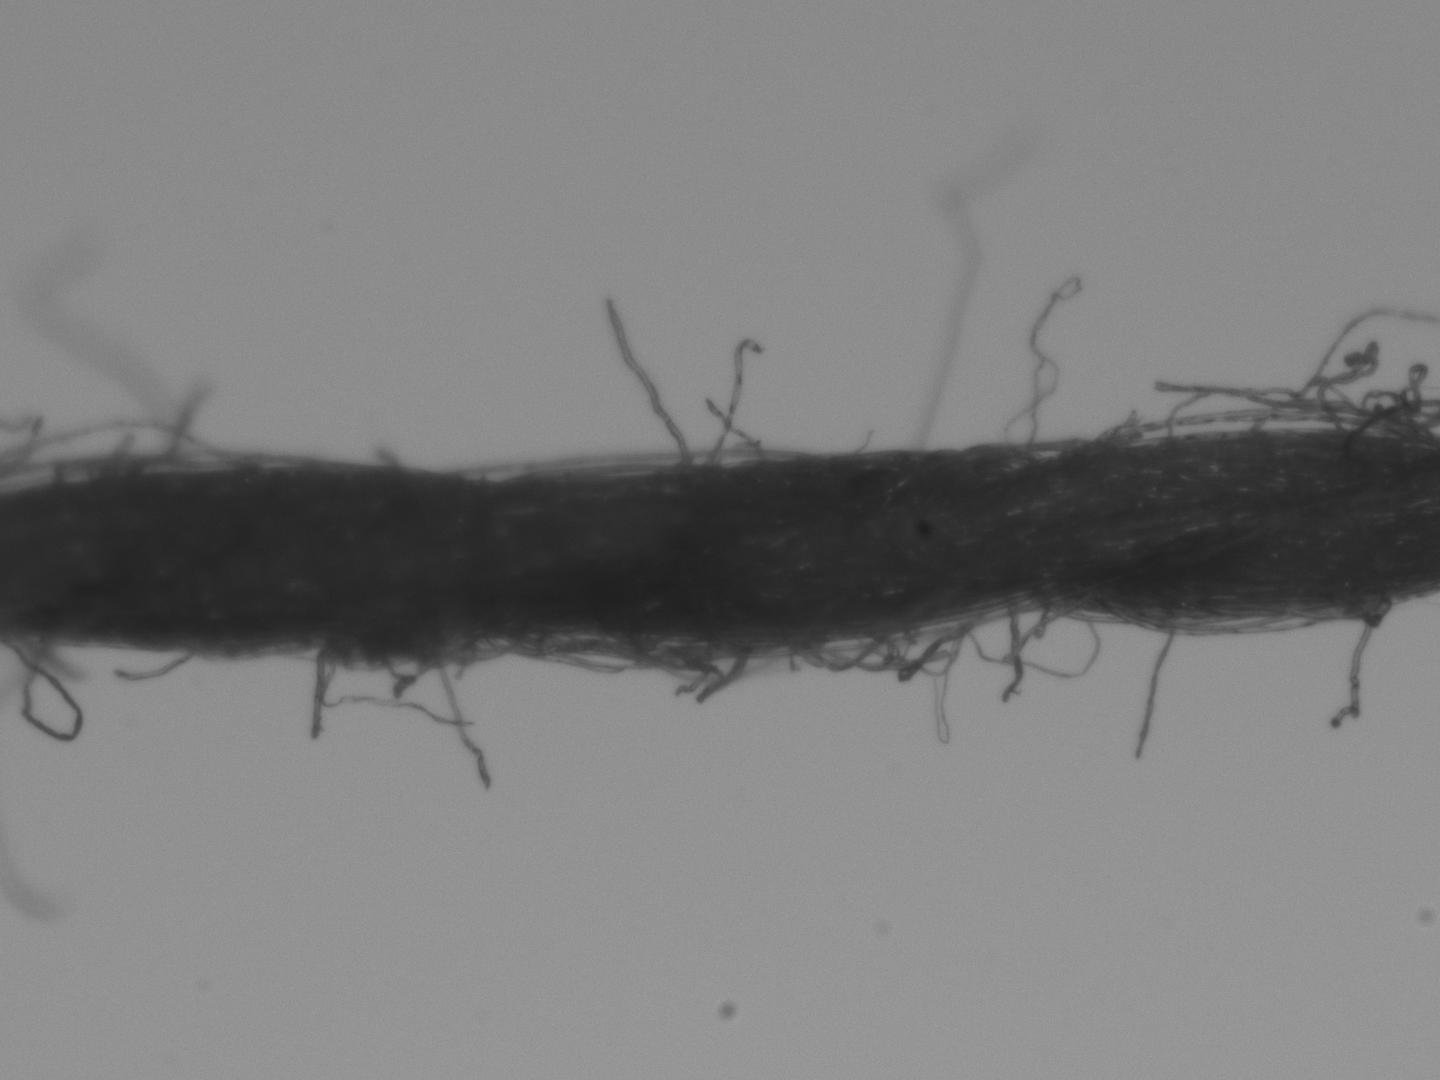loop_fiber: (449, 449, 796, 483), (1132, 407, 1377, 445), (1135, 606, 1308, 642), (517, 636, 706, 669), (799, 630, 889, 669), (433, 633, 510, 661), (1005, 437, 1084, 457)
protruding_fiber: (609, 302, 688, 467), (1130, 624, 1176, 763), (1329, 616, 1379, 732), (116, 652, 183, 682), (313, 649, 328, 736)
